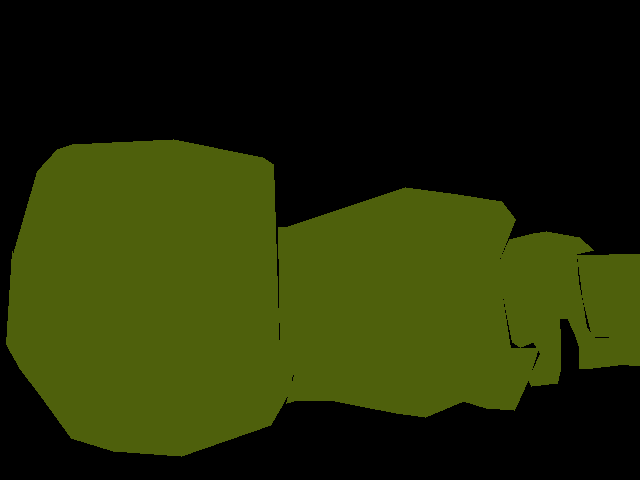Train: (6, 139, 292, 457), (278, 187, 538, 417), (497, 231, 619, 386), (577, 253, 640, 367)
